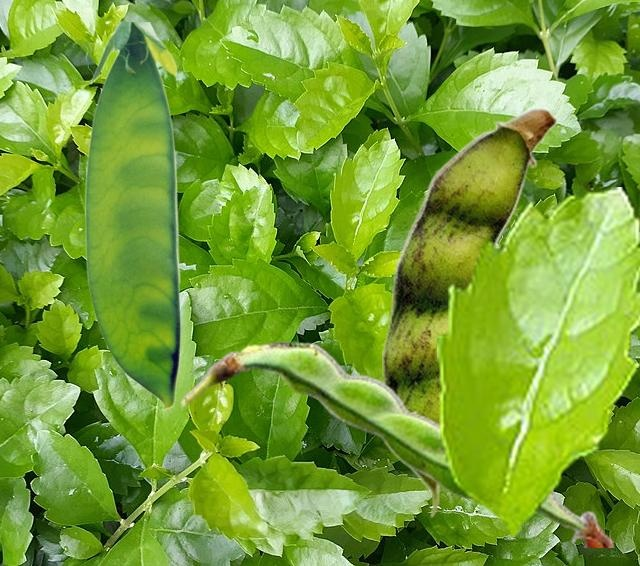pea: (181, 341, 614, 546), (382, 106, 557, 517), (84, 22, 179, 410)
